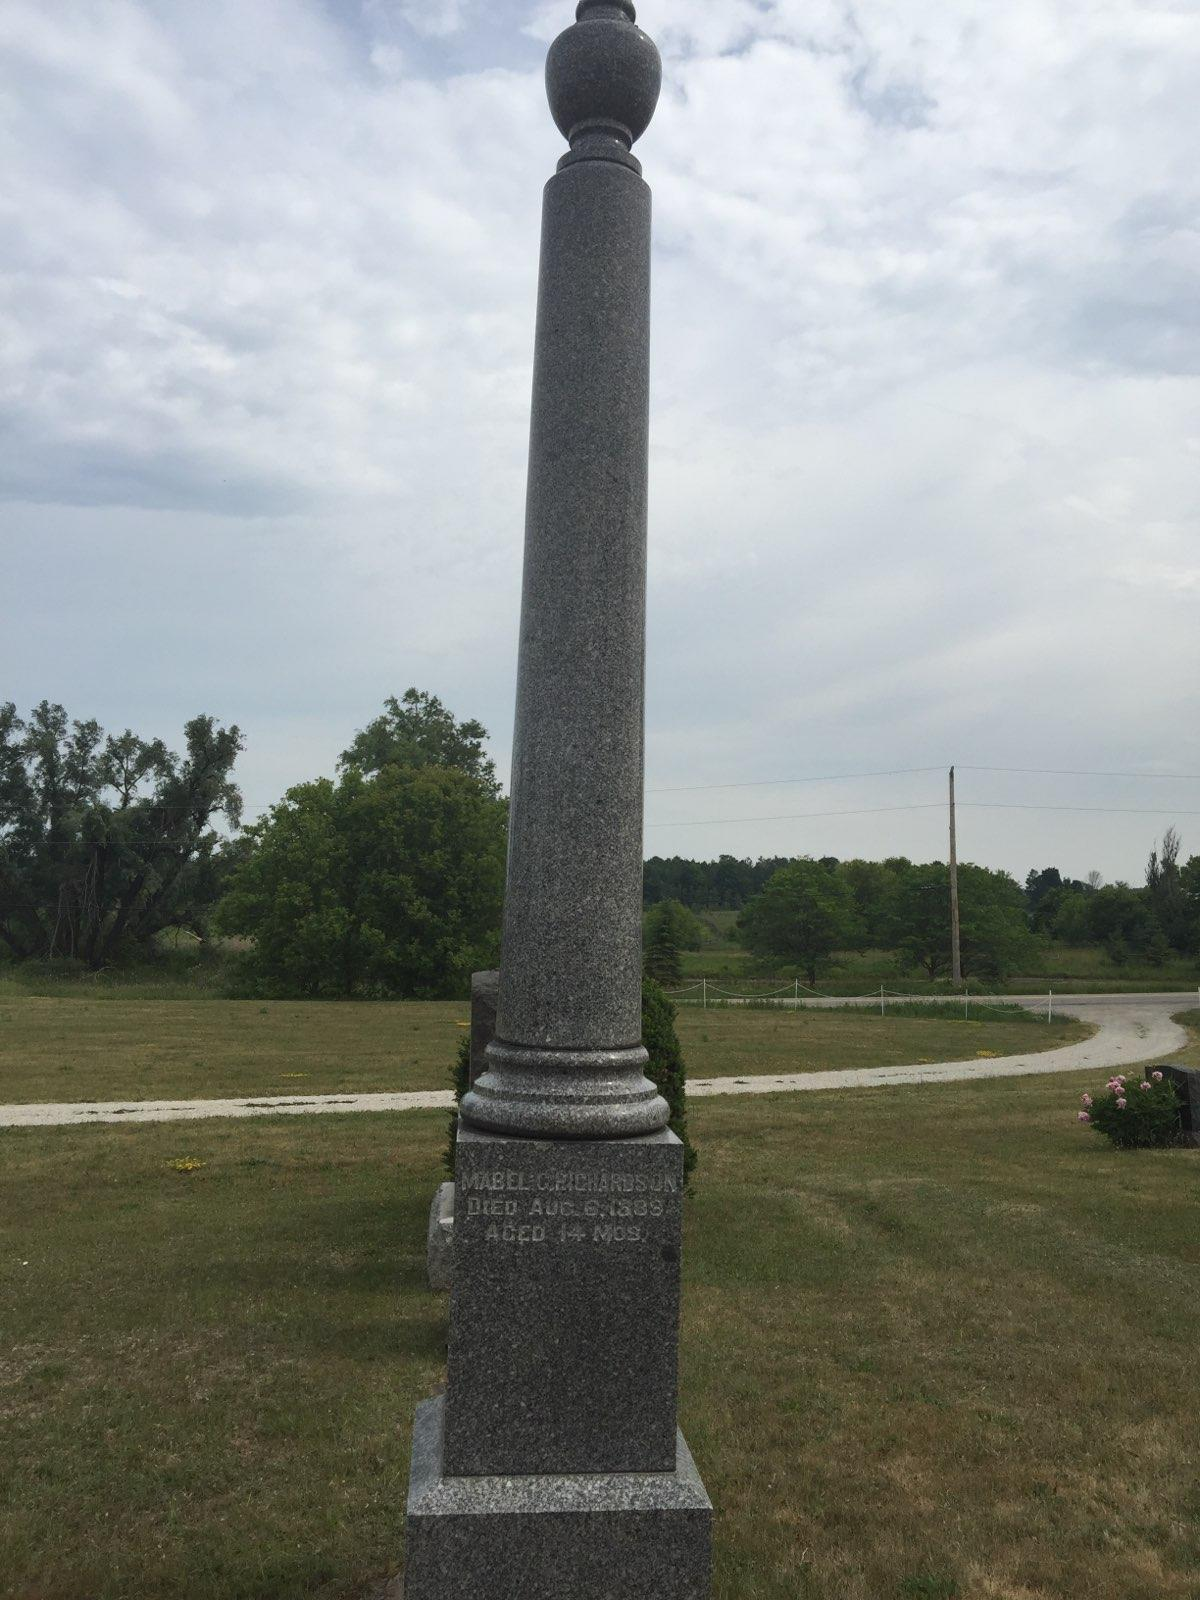obelisk: (407, 8, 718, 1589)
